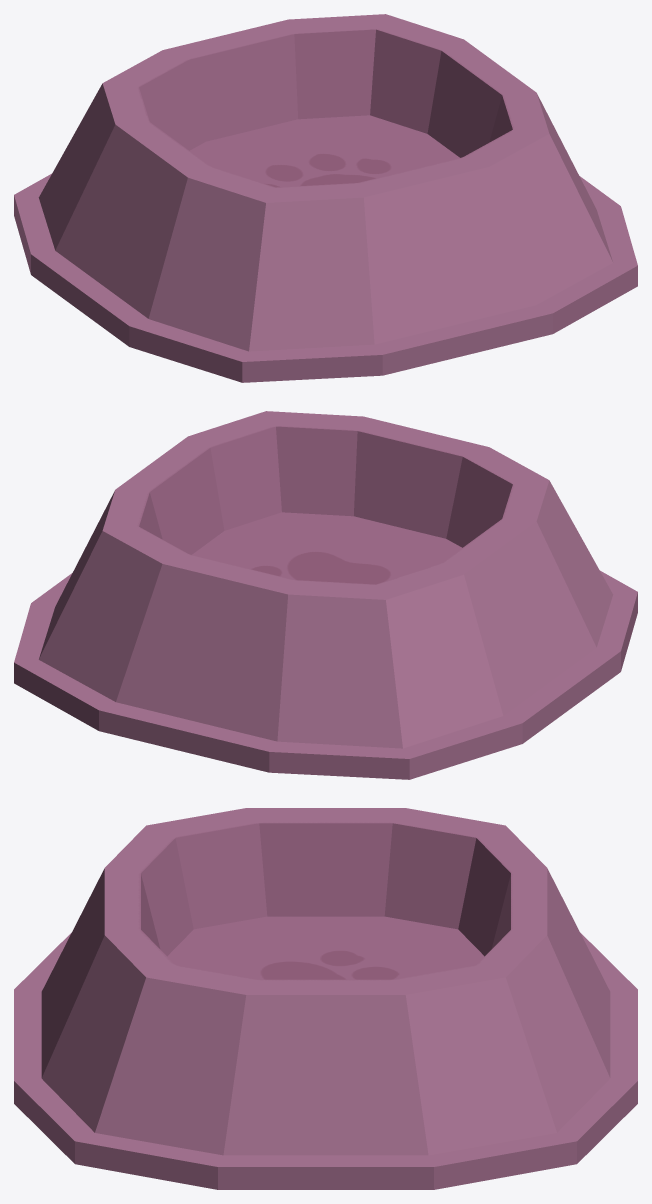
Rendered from Bowl.fbx.
3 views of the same model, one above another, from view 1: azimuth 30°, elevation 25°; view 2: azimuth 150°, elevation 25°; view 3: azimuth 270°, elevation 25° (orthographic). The views are drawn at different scales.
Parts seen in each view (by area): view 1: Bowl; view 2: Bowl; view 3: Bowl.
Part boxes in pixels (left/top/right/bottom): Bowl: left=14, top=14, right=637, bottom=382; Bowl: left=14, top=411, right=637, bottom=779; Bowl: left=14, top=808, right=637, bottom=1189.
Bounding box in the file's own units: 41.8 × 11.58 × 41.8.
